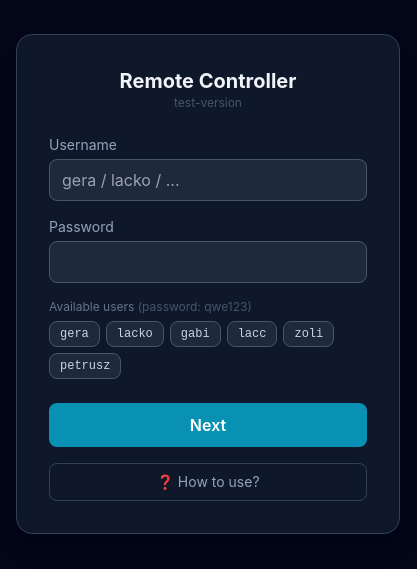
Scenario: LoginPage — step 1 › shows an error for wrong password
Type "gera" into the field labelled "Username". click: (208, 180)
box: [49,159,367,201]
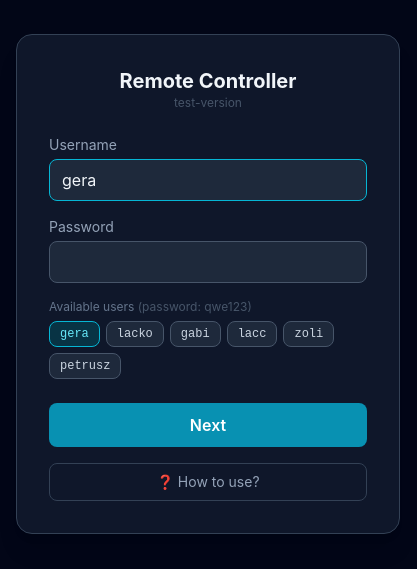
Type "wrong" into the password field labelled "Password". click: (208, 262)
box: [49,241,367,283]
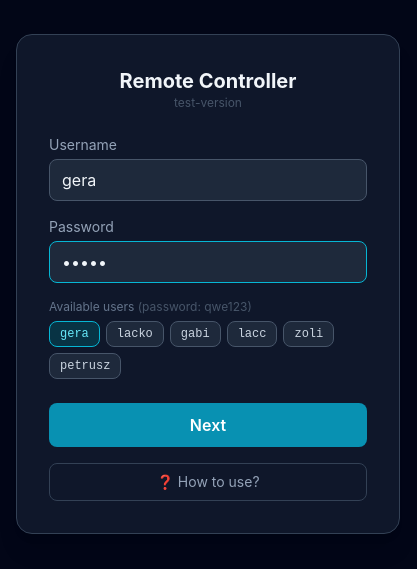
Click the button "Next". click: (208, 425)
box: [49,403,367,447]
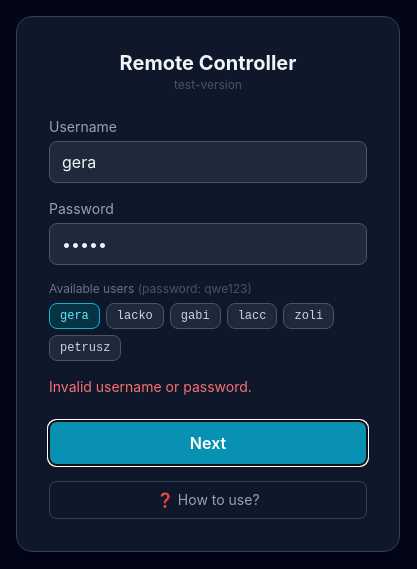
Expected: the text "Invalid username or password." is shown, [49,378,252,395]
